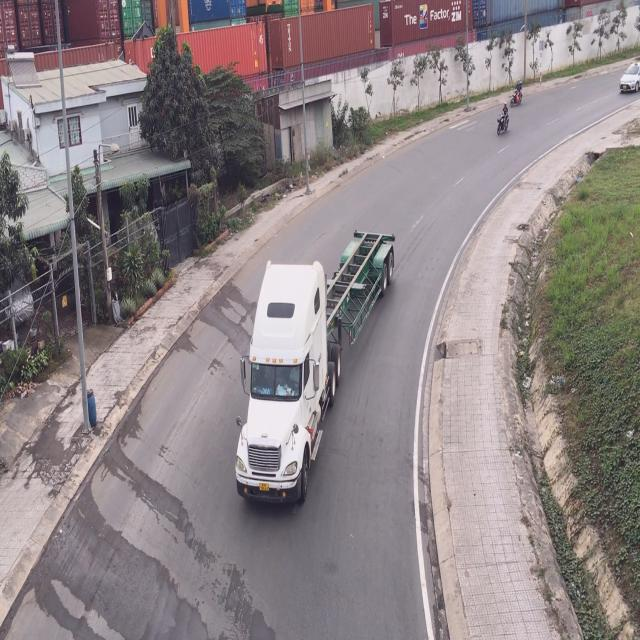car: (619, 65, 640, 96)
motorbike: (496, 100, 510, 136), (512, 75, 525, 109)
truck: (236, 230, 397, 514)
